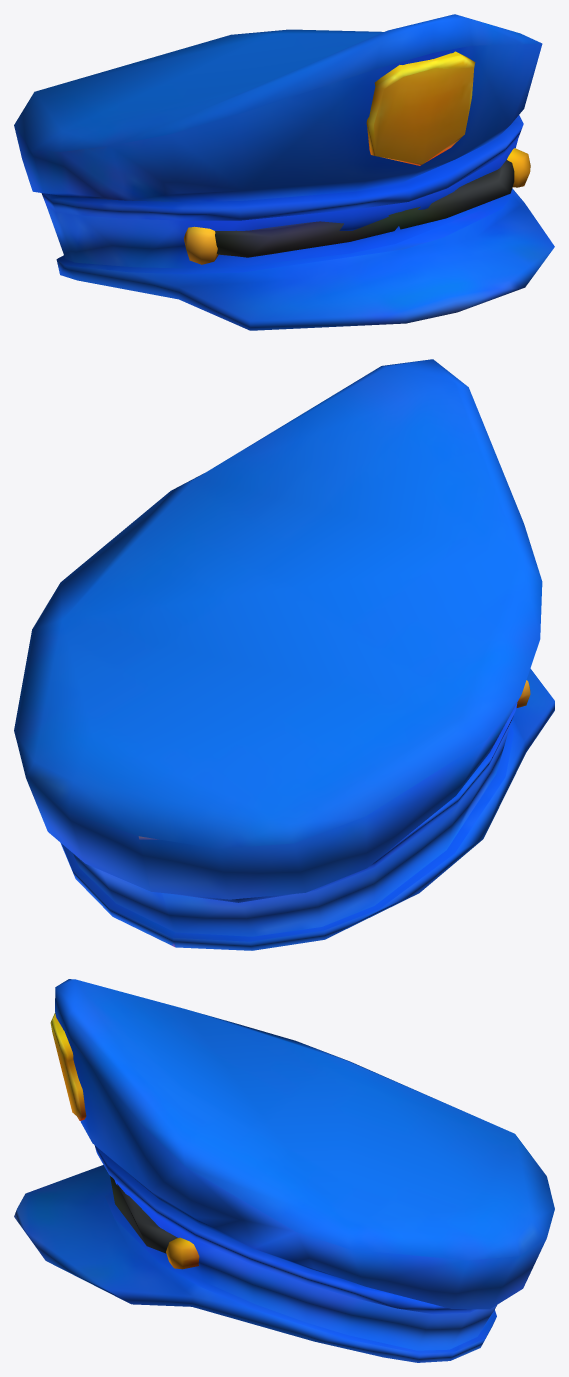
The model's file is Police_Hat.glb.
The picture shows the model from 3 angles, top to bottom: view 1: azimuth 30°, elevation 25°; view 2: azimuth 150°, elevation 25°; view 3: azimuth 270°, elevation 25°; orthographic projection. The views are drawn at different scales.
Visible parts, largest first — view 1: Police_Hat; view 2: Police_Hat; view 3: Police_Hat.
Part boxes in pixels (x1,y1,x2,y2): Police_Hat: [14, 14, 554, 330]; Police_Hat: [14, 359, 554, 950]; Police_Hat: [14, 979, 554, 1362].
Bounding box in the file's own units: 0.5484 × 0.4544 × 0.657.
1 material, 1 textured.
